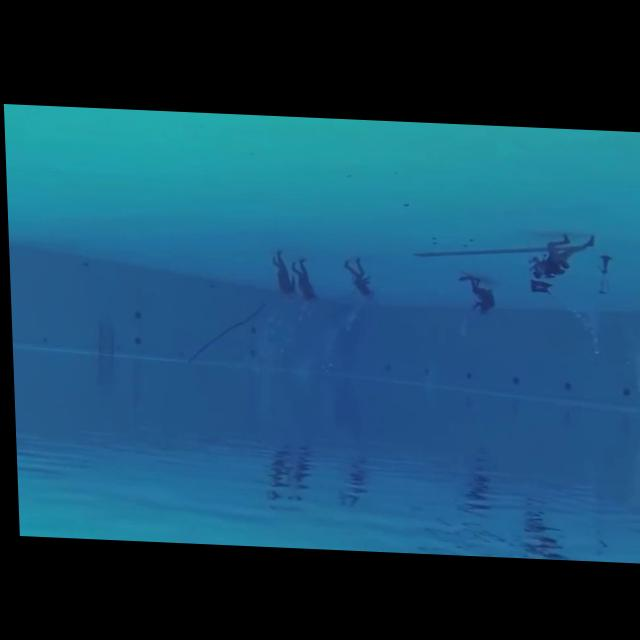human: (523, 220, 598, 297), (455, 267, 502, 322), (336, 246, 377, 300), (264, 242, 298, 306), (287, 255, 319, 313)
